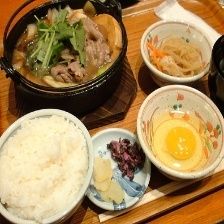rice: (1, 109, 89, 224)
